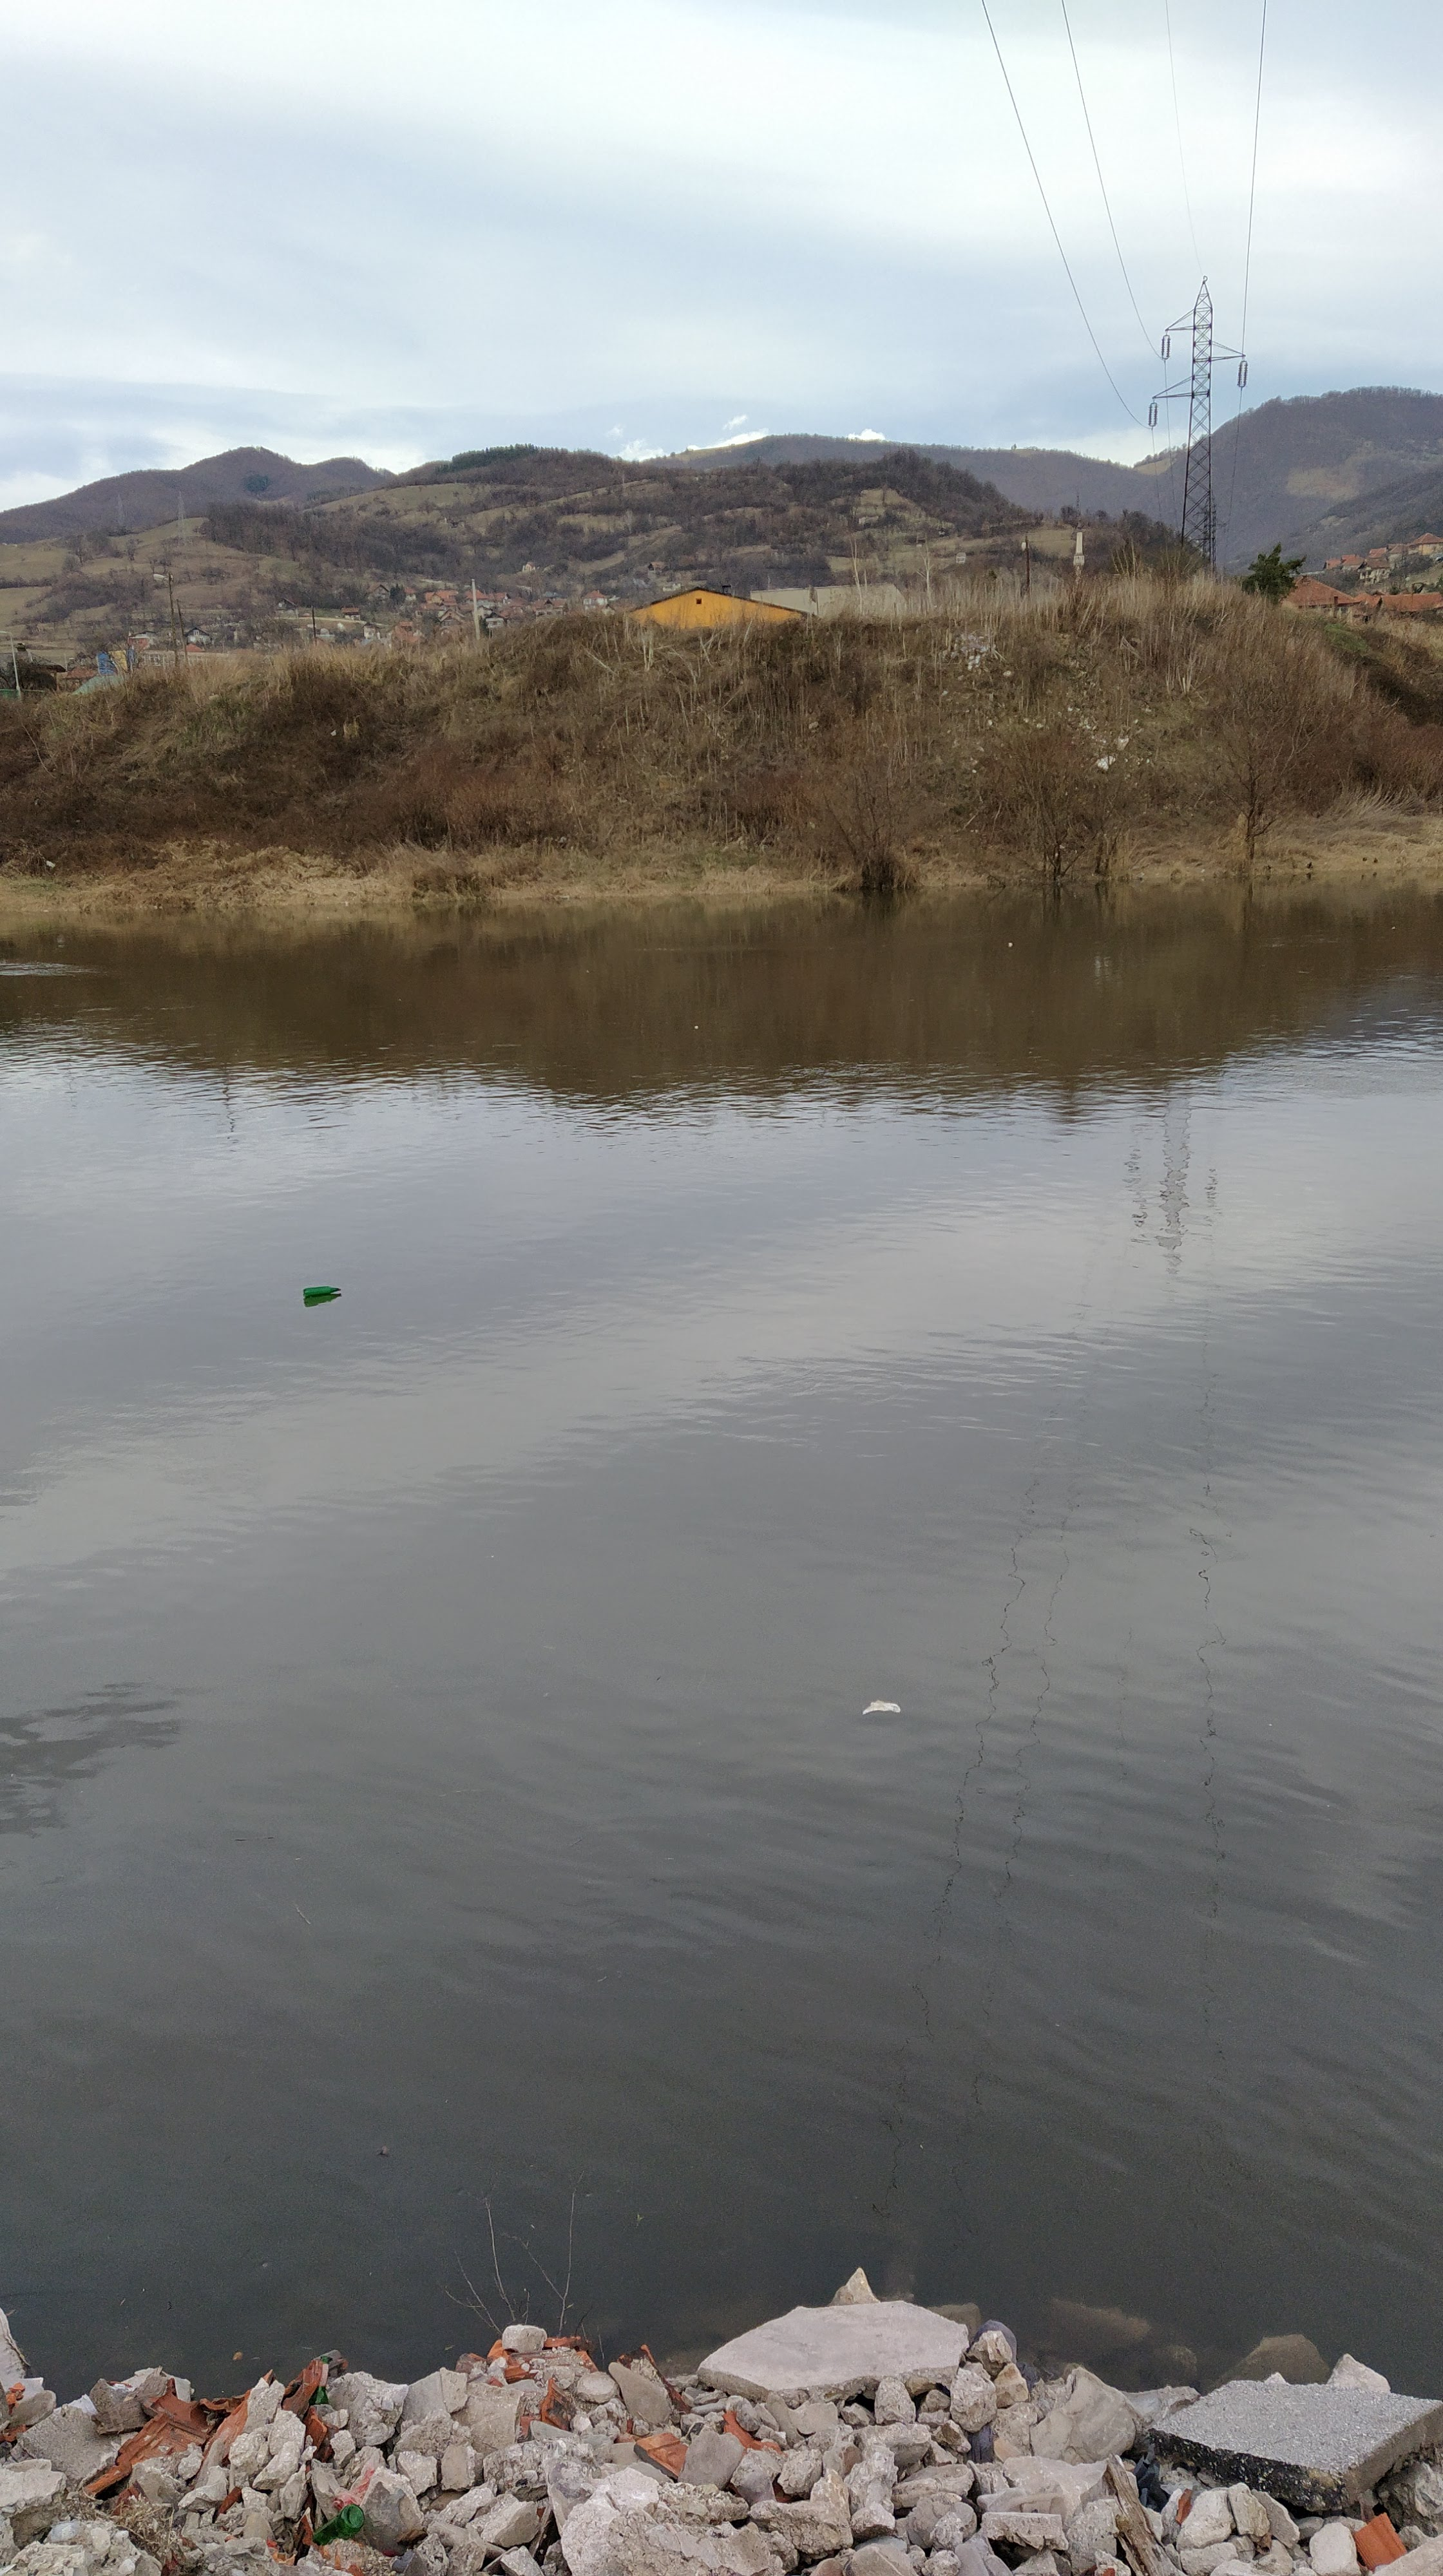Plastic Bottle: (303, 1286, 340, 1297)
